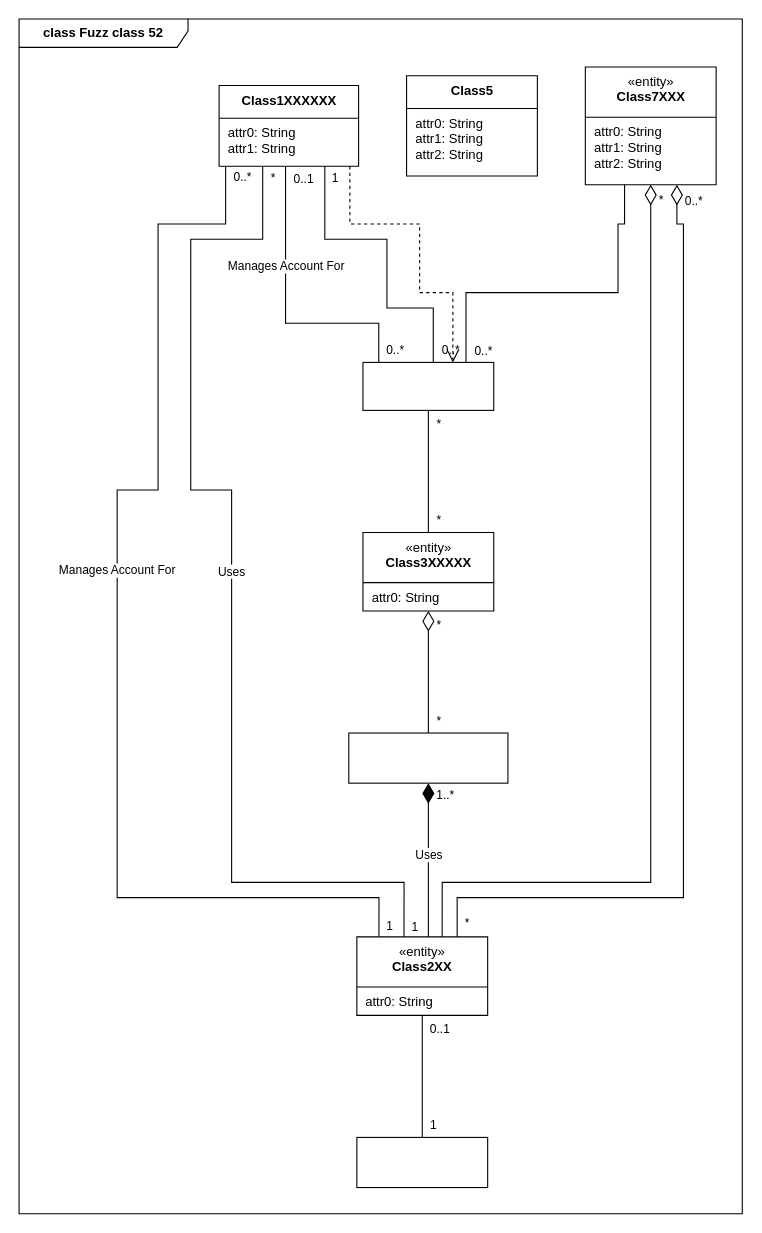
Some shapes in this 762 by 1233 pixel diagram are drawn without their labels. Here are the shapes that lost their labels. From the top down, the centre of each, then its label:
the point at 428,385: Class6XX
the point at 428,757: «entity» Class0XXXXXXXX
the point at 422,1162: «entity» Class4
